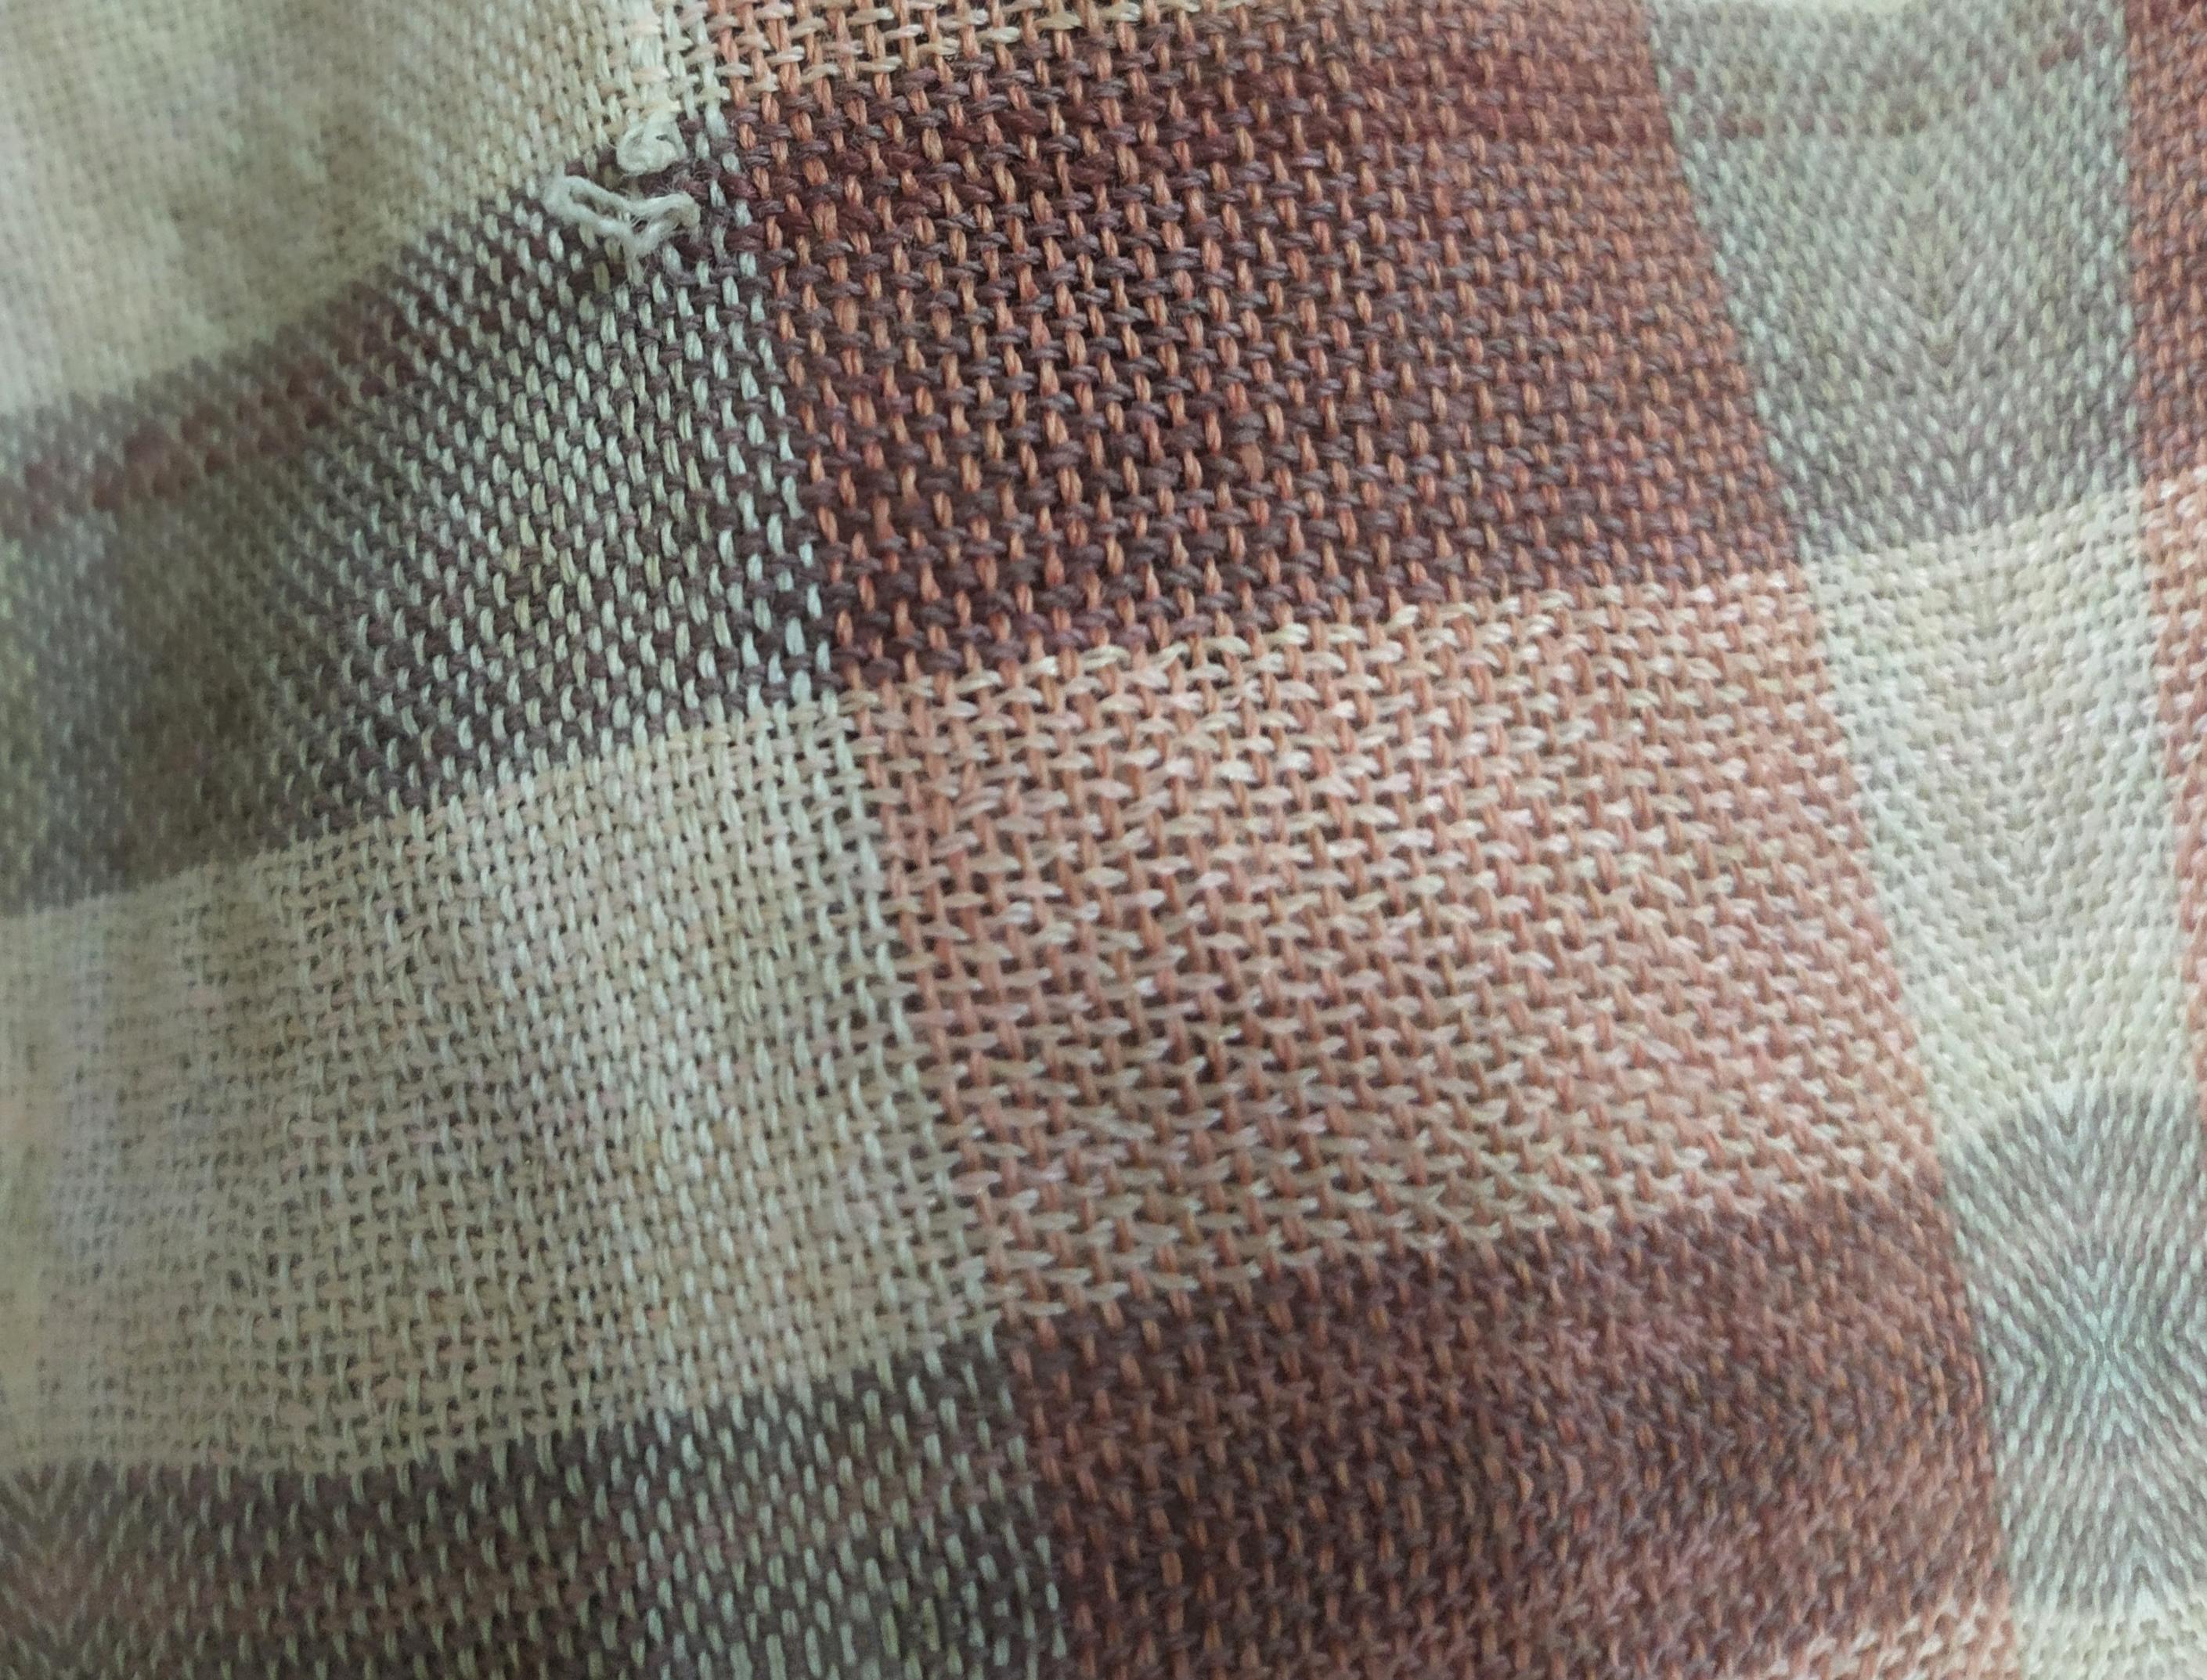snag: (513, 101, 760, 274)
